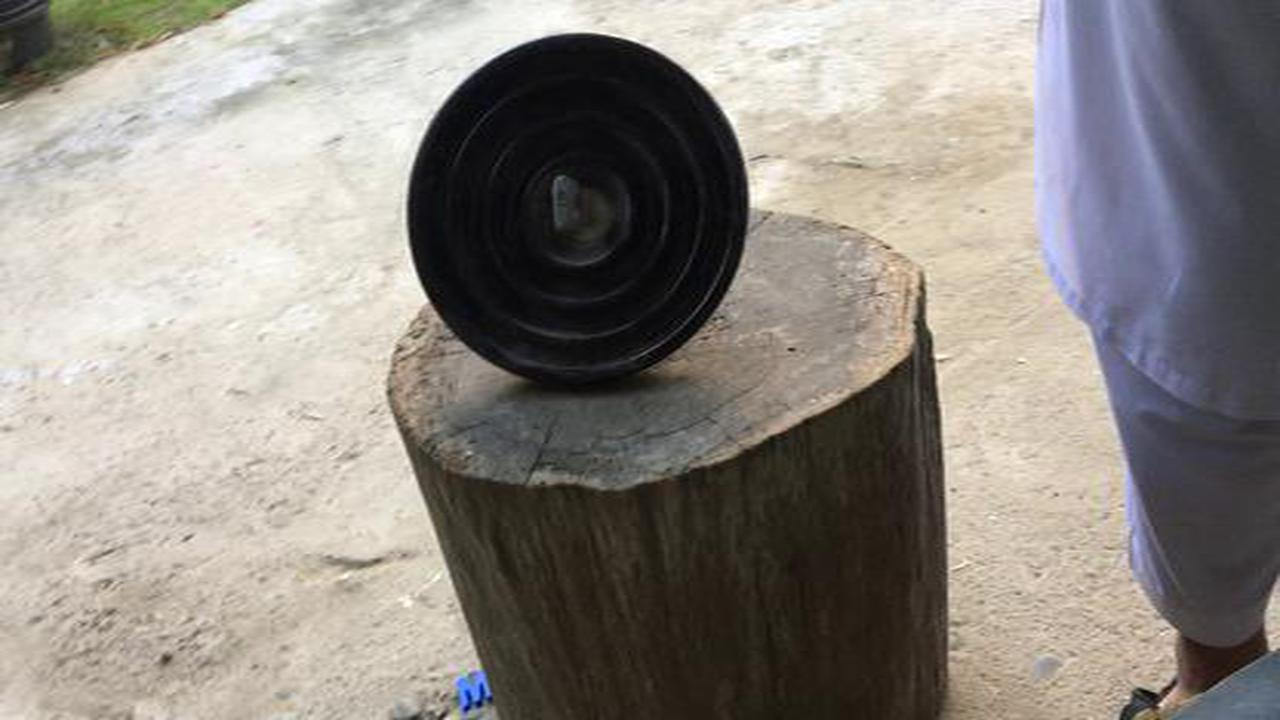insulator_disc: (401, 29, 750, 395)
